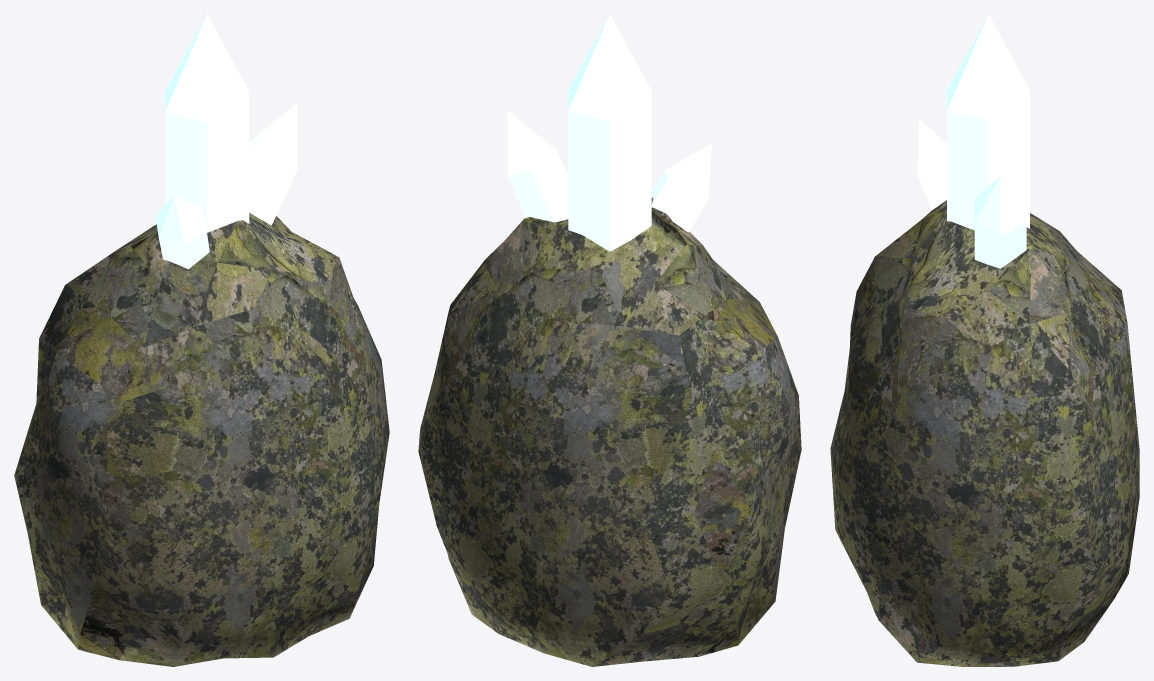
The model's file is waystone.glb.
The picture shows the model from 3 angles, left to right: view 1: azimuth 30°, elevation 25°; view 2: azimuth 150°, elevation 25°; view 3: azimuth 270°, elevation 25°; orthographic projection.
Visible parts, largest first — view 1: waystone; view 2: waystone; view 3: waystone.
Boxes of the visible parts, x1,y1,x2,y2 form: waystone: [14, 14, 389, 666]; waystone: [418, 14, 801, 666]; waystone: [830, 14, 1139, 666].
Size of the model in its own units: 0.6389 by 1.1 by 0.5158.
Materials: 2 (1 with a texture image).
